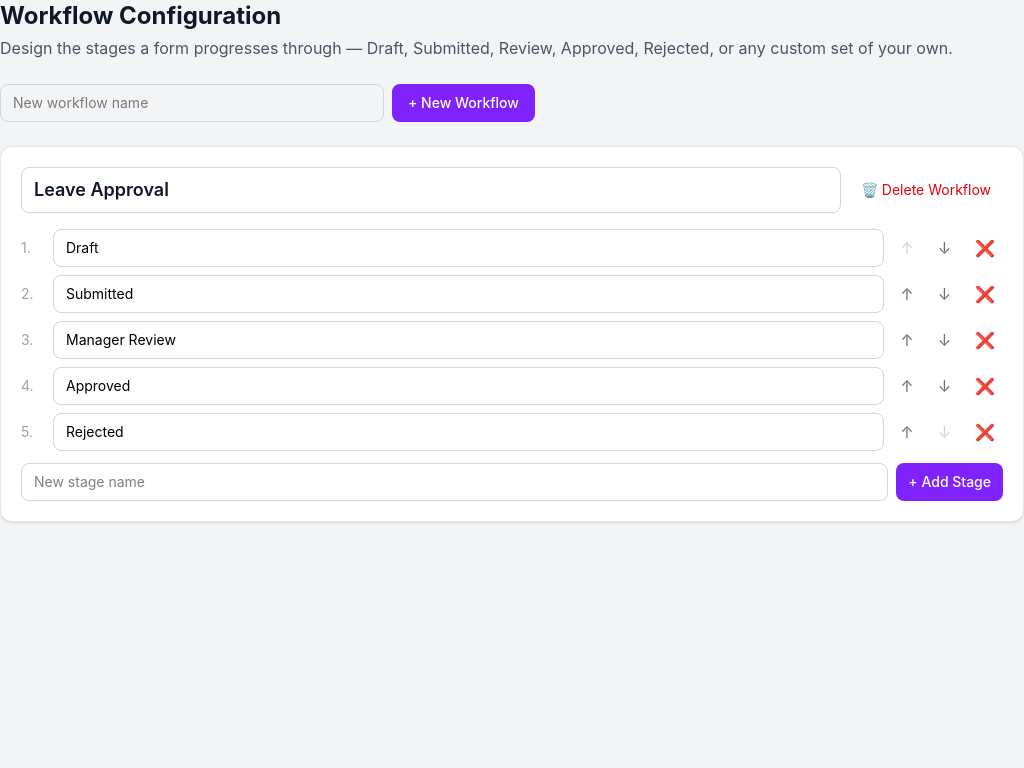
Test: Workflow configuration page (Admin) › deletes a whole workflow after confirming in the dialog
Expected: the field showing "Leave Approval" is shown, [21,167,841,213]
Click the button "🗑️ Delete Workflow" at {"x": 926, "y": 190}, box [849,172,1003,208]
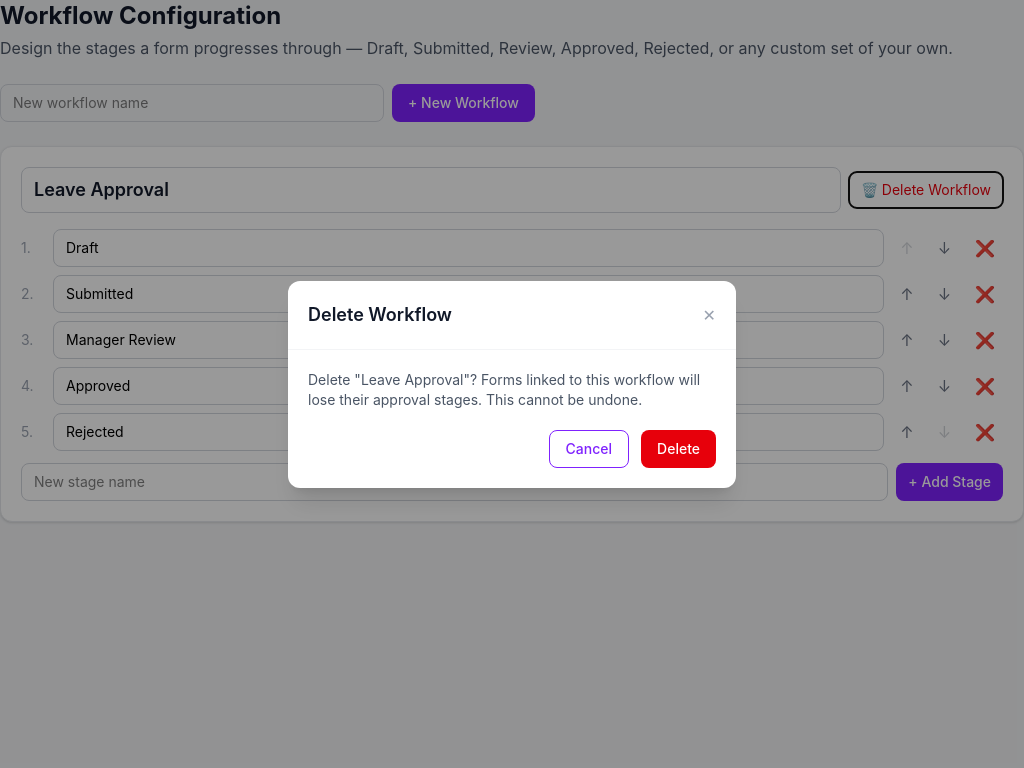
Expected: the text "Delete \"Leave Approval\"" is shown, [308,370,700,408]
Click the button "Delete" at {"x": 679, "y": 448}, box [641,430,716,468]
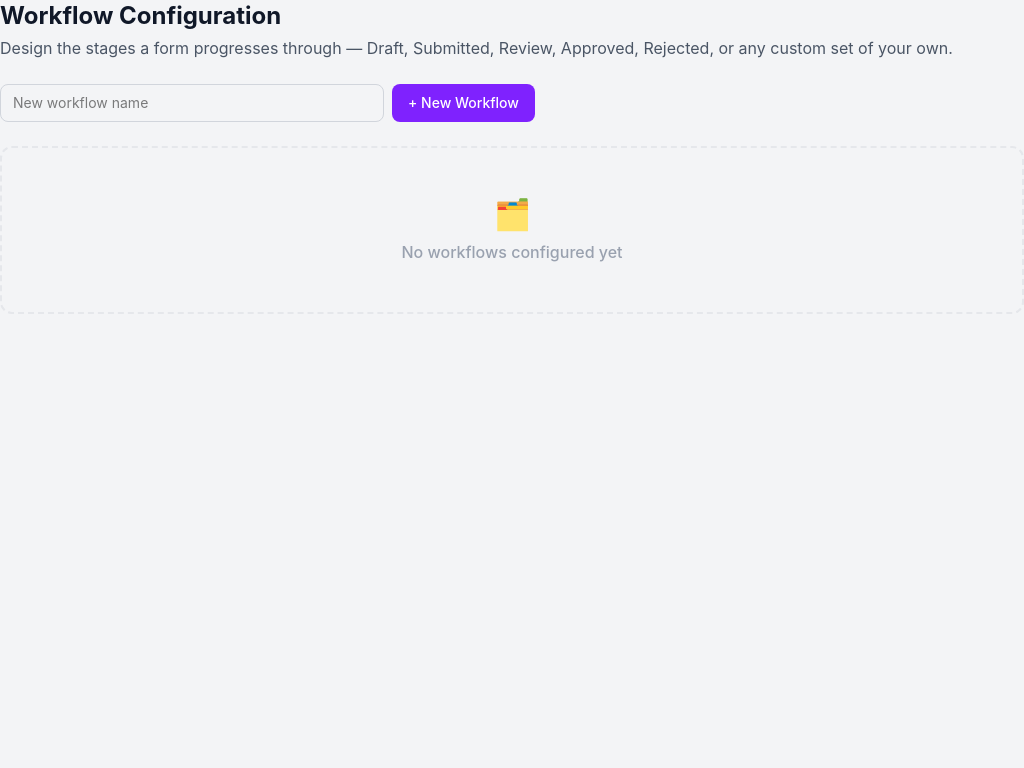
Expected: the text "No workflows configured yet" is shown, [401,240,622,264]
